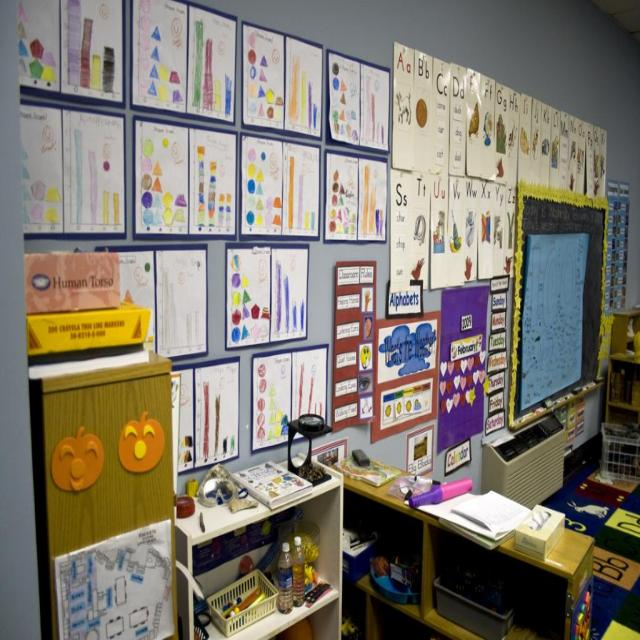desk: (331, 458, 614, 630)
tv: (507, 211, 604, 432)
